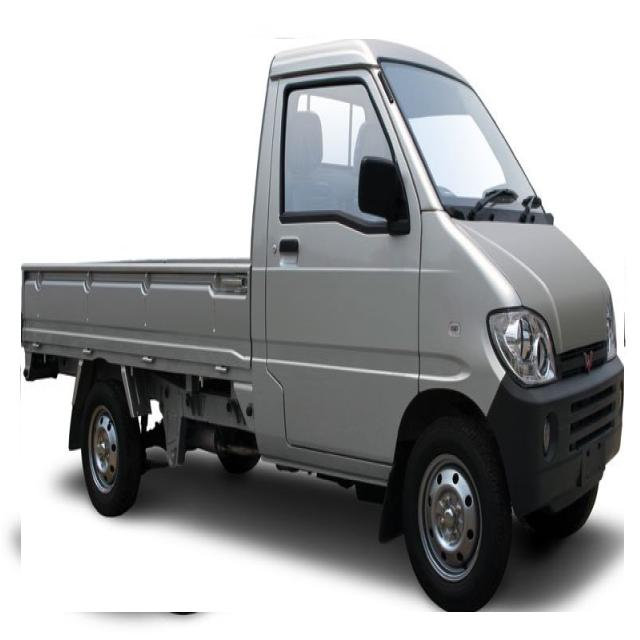truck: (21, 39, 624, 612)
